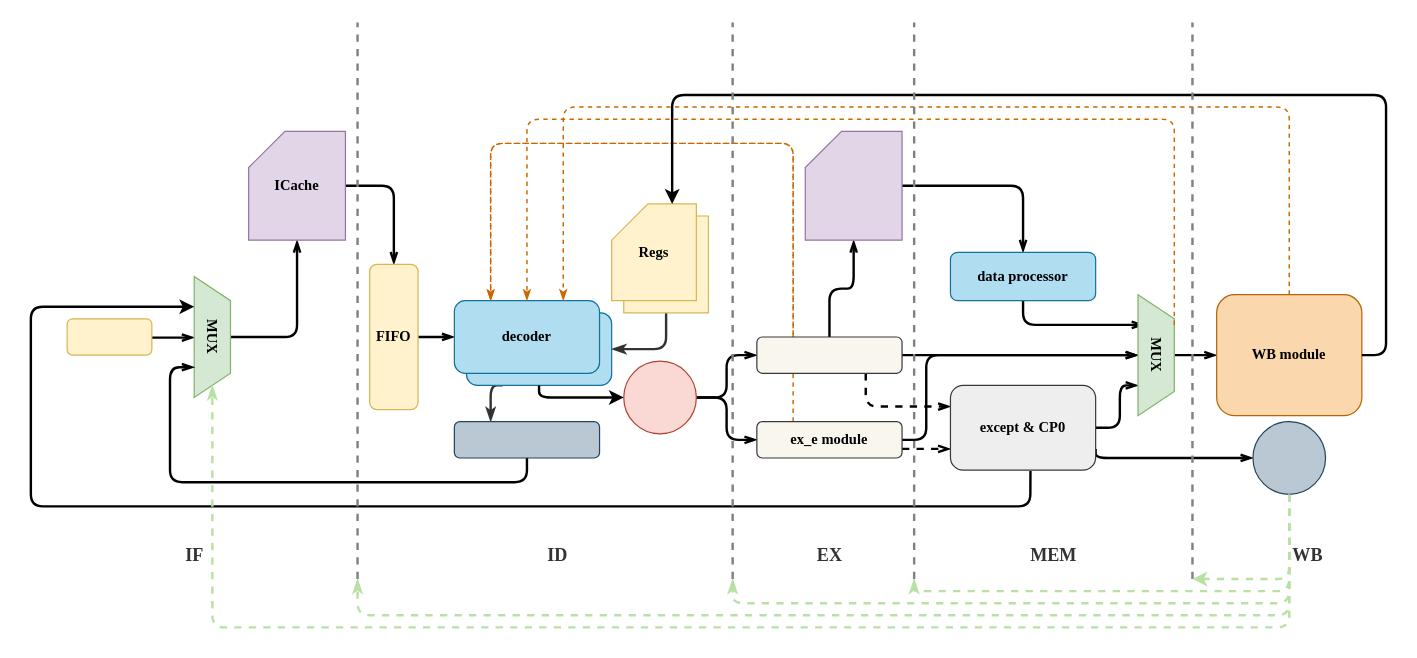
Some shapes in this 1417 by 658 pixel diagram are drawn without their labels. Each missing label, with the box of its shape:
branch module: (453, 420, 600, 458)
CTRL module: (1252, 420, 1326, 494)
DCache: (804, 130, 902, 240)
ex_p module: (756, 336, 902, 373)
launch ctrl: (623, 360, 696, 434)
pc: (66, 318, 152, 355)
